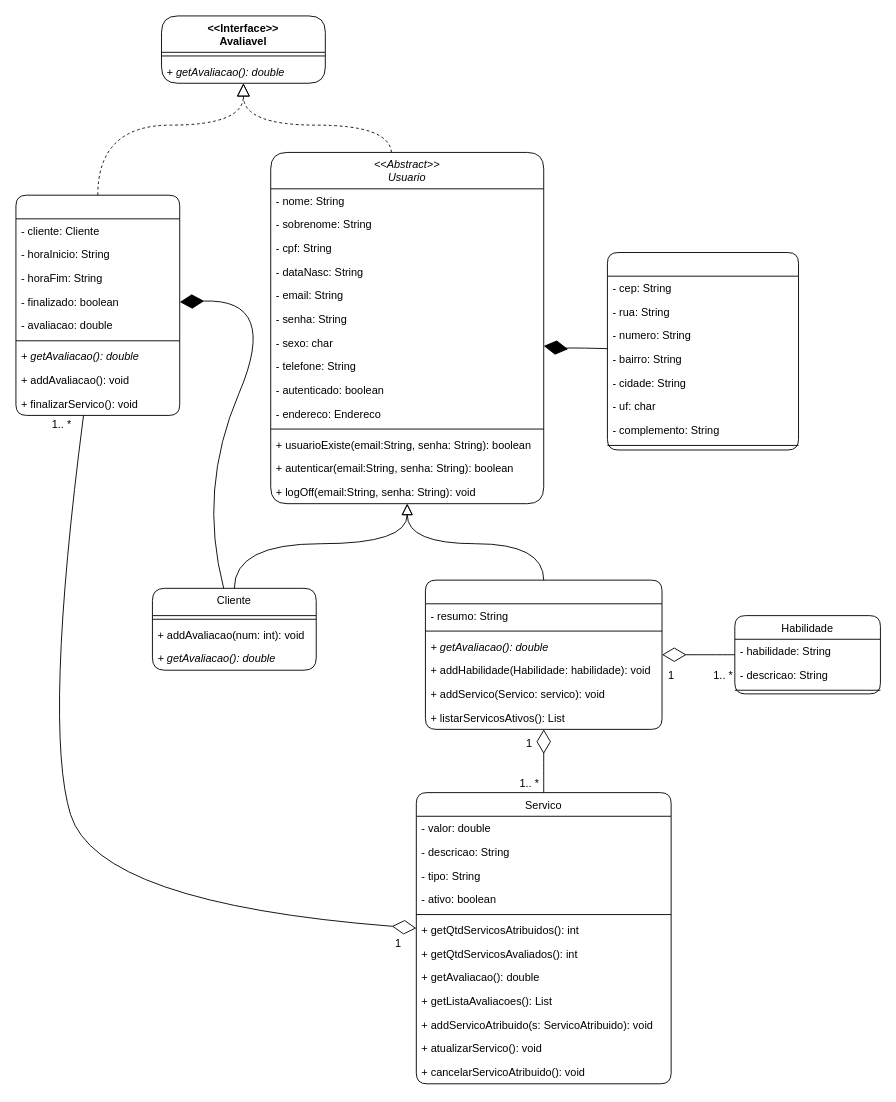
This 896x1102 diagram has some shape labels left out. The box of each missing label's shape, as (x1, y1, x2, y2) in pixels:
Endereco: (607, 252, 799, 450)
Prestador: (425, 579, 662, 729)
ServicoAtribuido: (15, 194, 180, 415)
